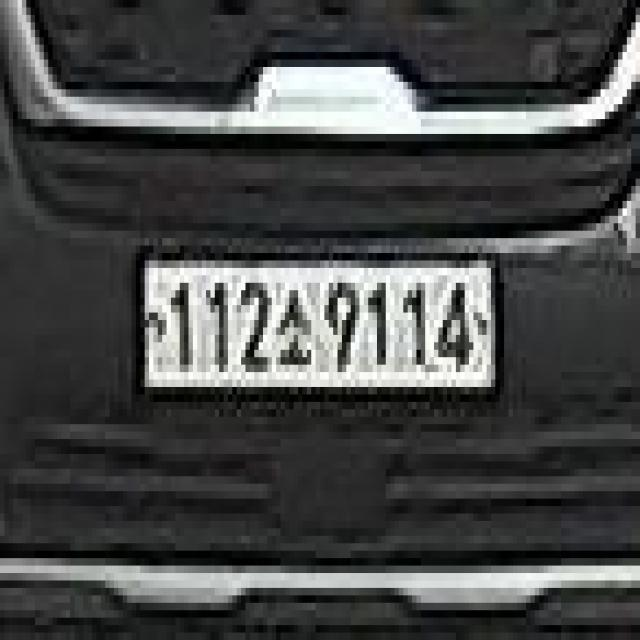illegal_plate: (135, 238, 505, 418)
